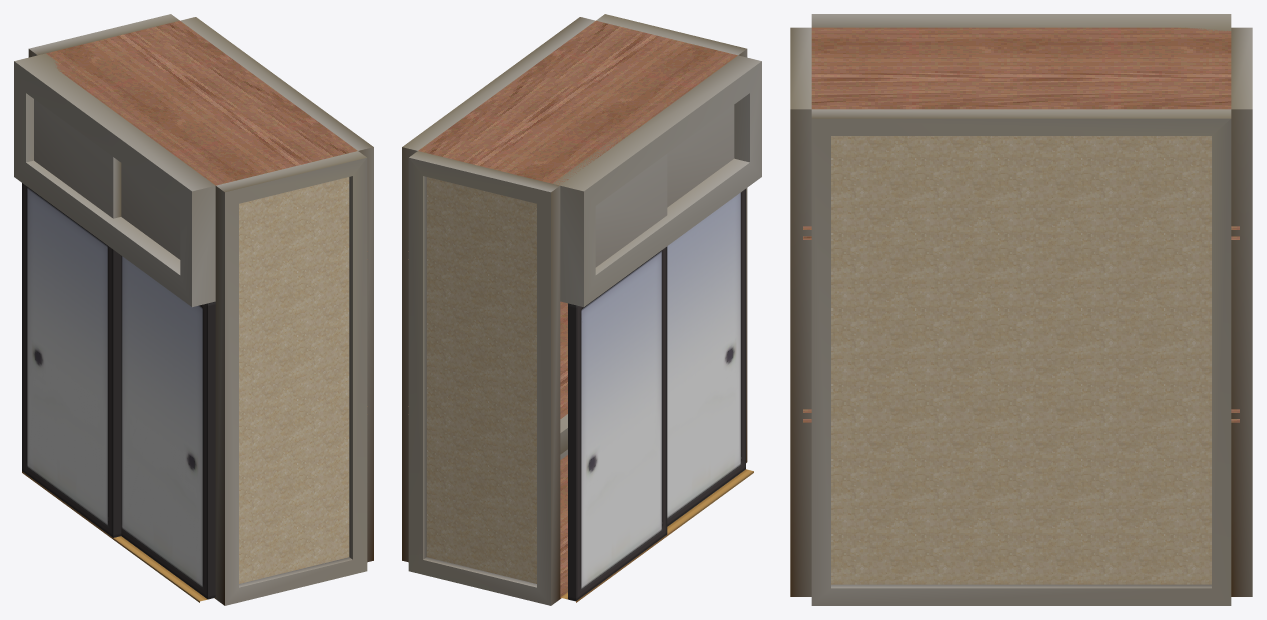
The model's file is oshiire_2jyo_01.fbx.
3 views of the same model, side by side, from view 1: azimuth 30°, elevation 25°; view 2: azimuth 150°, elevation 25°; view 3: azimuth 270°, elevation 25° (orthographic). The views are drawn at different scales.
Visible parts, largest first — view 1: tutikabe06, door02, door01, tenjyo01, ranma01, tutikabe05, door03, door04, tutikabe01; view 2: tutikabe01, door02, tenjyo01, door01, ranma01, tutikabe05, door03, door04, tutikabe06; view 3: tutikabe05, tenjyo01, tutikabe01, tutikabe06, ranma01.
Boxes of the visible parts, x1,y1,x2,y2 form: tutikabe06: (215,151,367,605); door02: (22,183,121,537); door01: (121,256,215,599); tenjyo01: (46,20,367,414); ranma01: (14,53,215,602); tutikabe05: (180,17,373,562); door03: (34,99,121,218); door04: (121,163,180,259); tutikabe01: (28,14,179,57); tutikabe01: (408,151,560,605); door02: (568,246,667,601); tenjyo01: (408,20,737,597); door01: (667,189,745,526); ranma01: (553,55,761,602); tutikabe05: (402,17,595,562); door03: (595,154,667,267); door04: (667,105,734,207); tutikabe06: (560,14,747,462); tutikabe05: (811,109,1231,605); tenjyo01: (803,27,1239,422); tutikabe01: (1231,27,1252,596); tutikabe06: (790,27,811,596); ranma01: (811,14,1231,31).
Bounding box in the file's own units: 230 × 500 × 430.
